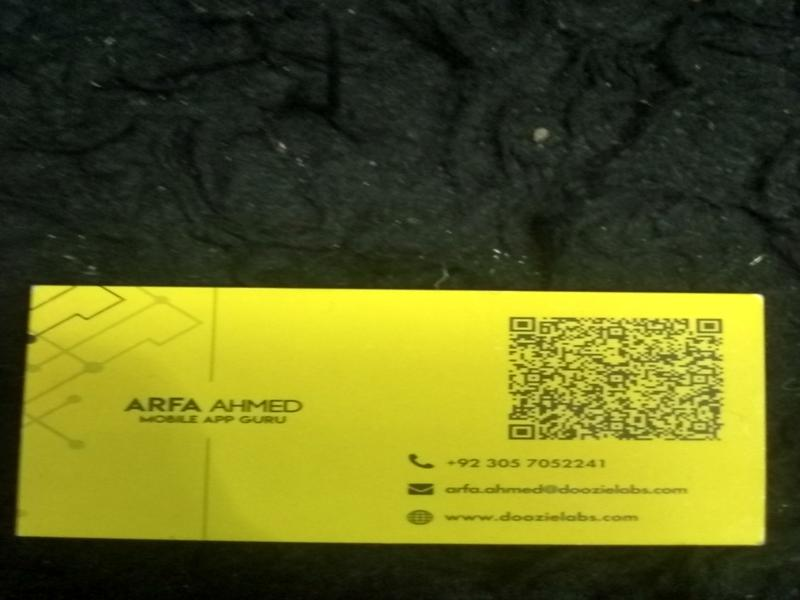front: (12, 282, 772, 548)
